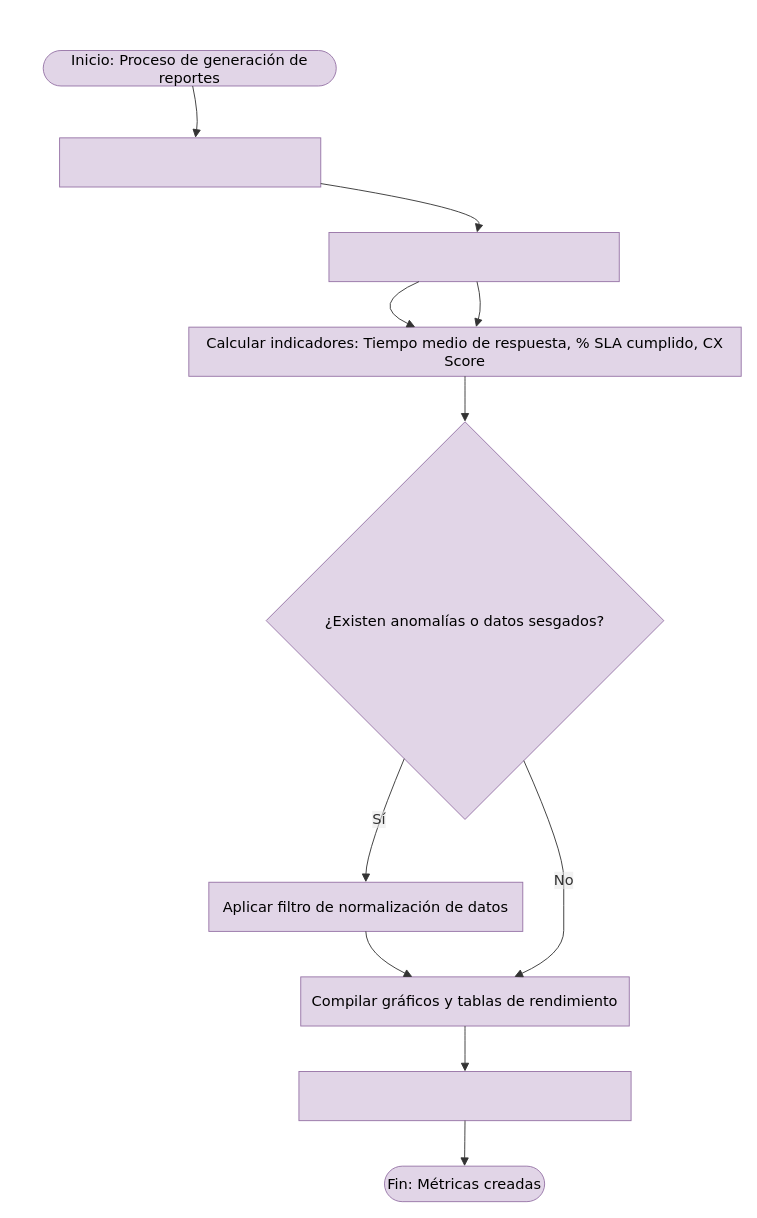
This 757x1218 diagram has some shape labels left out. The shapes that lost their labels are listed below. From the top down, each one's box as (x1, y1, x2, y2) in pixels, then its label:
(59, 137, 321, 187): Definir rango de fechas y filtros
(328, 232, 619, 282): Extraer registros de tickets de la BD
(298, 1071, 631, 1121): Guardar / Exportar dashboard de métricas
